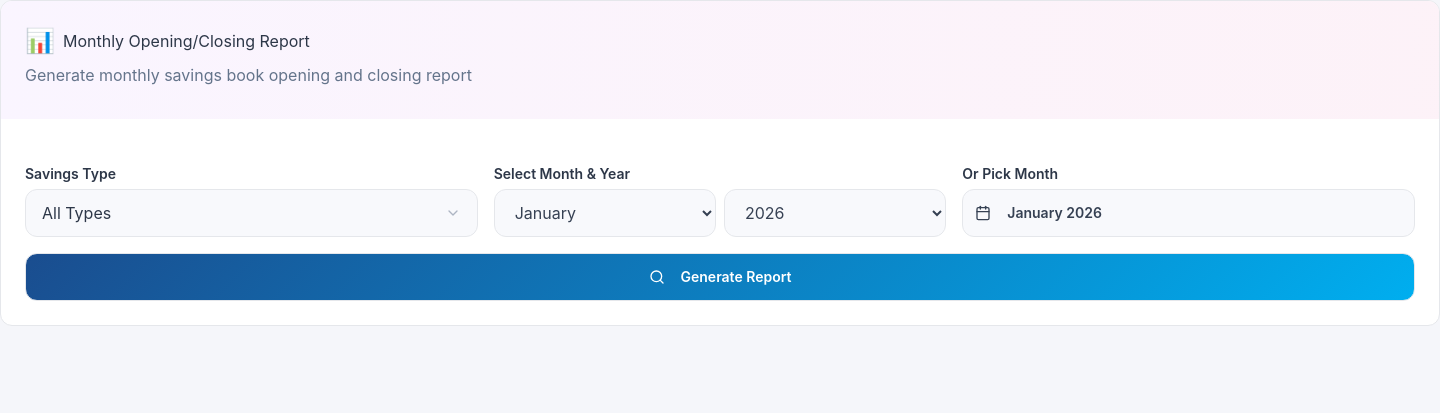
Test: UC10 - Monthly Open/Close Report › F) Error State - Service Unavailable › should display error message on network failure
Click the button "Generate Report". click: x=720, y=277
box: 25,253 -> 1415,301
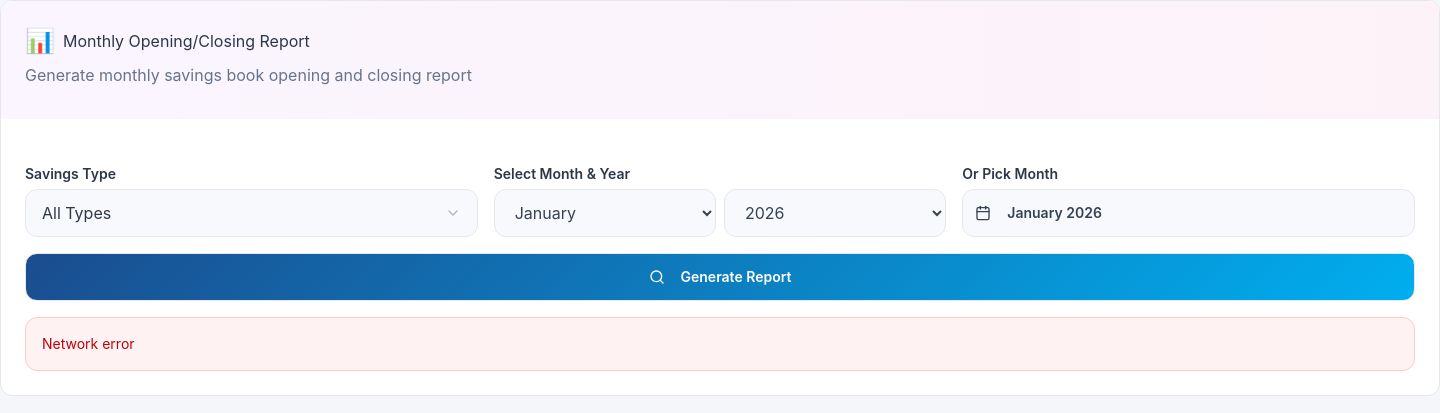
Expected: the text "Network error" is shown, 25,317 -> 1415,371
